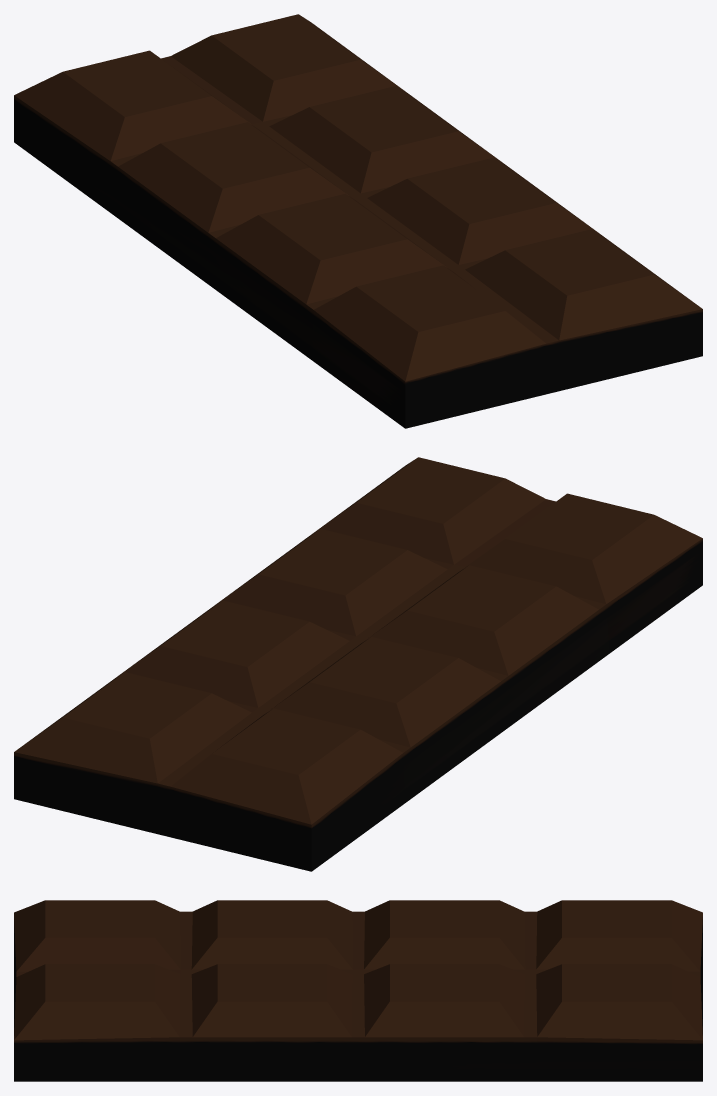
Rendered from Chocolate.fbx.
The picture shows the model from 3 angles, top to bottom: view 1: azimuth 30°, elevation 25°; view 2: azimuth 150°, elevation 25°; view 3: azimuth 270°, elevation 25°; orthographic projection. The views are drawn at different scales.
Visible parts, largest first — view 1: Chocolate; view 2: Chocolate; view 3: Chocolate.
Part boxes in pixels (<box>): Chocolate: <box>14,14,702,428</box>; Chocolate: <box>14,457,702,871</box>; Chocolate: <box>14,900,702,1081</box>.
Bounding box in the file's own units: 200 × 48.88 × 456.
